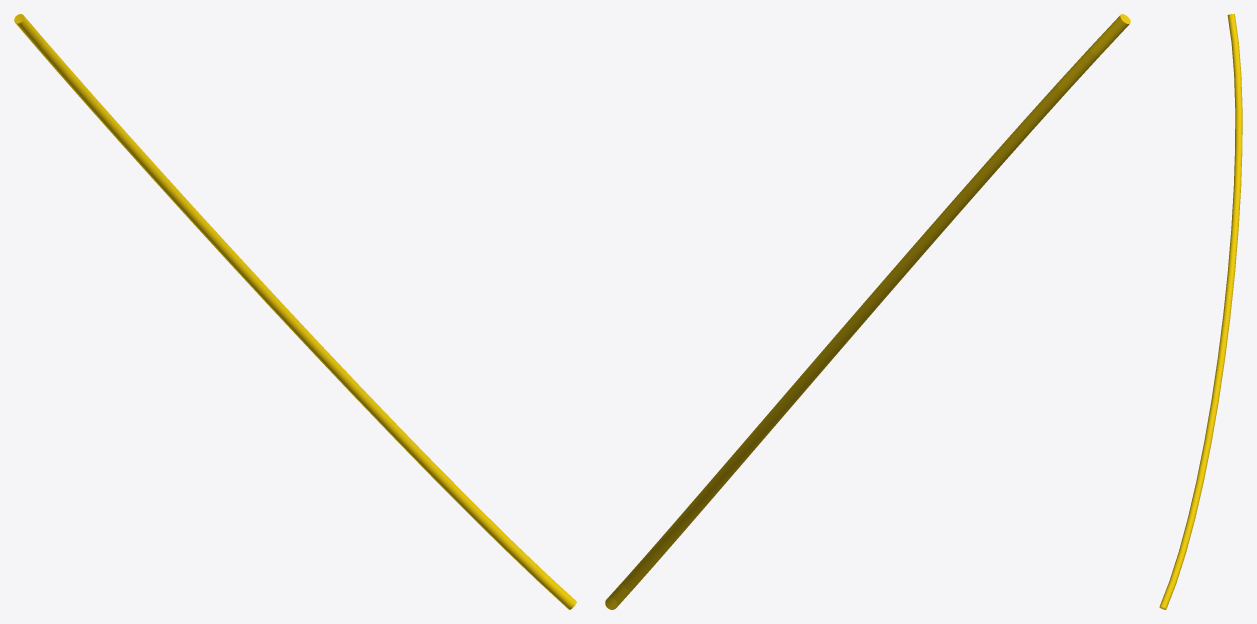
Rendered from Event_421115418_track_56.fbx.
3 renders of one model, left to right at view 1: azimuth 30°, elevation 25°; view 2: azimuth 150°, elevation 25°; view 3: azimuth 270°, elevation 25°, orthographic. The views are drawn at different scales.
Visible parts, largest first — view 1: Model; view 2: Model; view 3: Model.
Part boxes in pixels (x1,y1,x2,y2): Model: (14,14,576,609); Model: (605,14,1130,609); Model: (1159,14,1242,609).
Size of the model in its own units: 2.06 by 2.62 by 0.4491.
